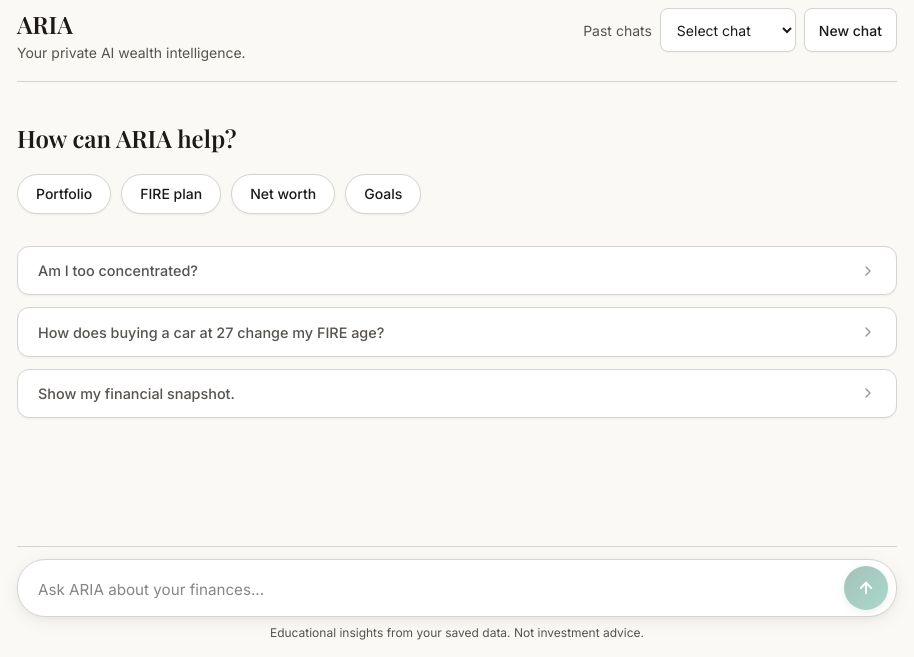
Test case: Advisory interactive chat UI › renders a Markdown table from an assistant response
This screenshot has width=914, height=657.
Expected: the button "New chat" is shown, [804, 8, 897, 52]
Select "Previous Plan" in the dropdown labelled "Past chats" at (728, 30), box [660, 8, 796, 52]
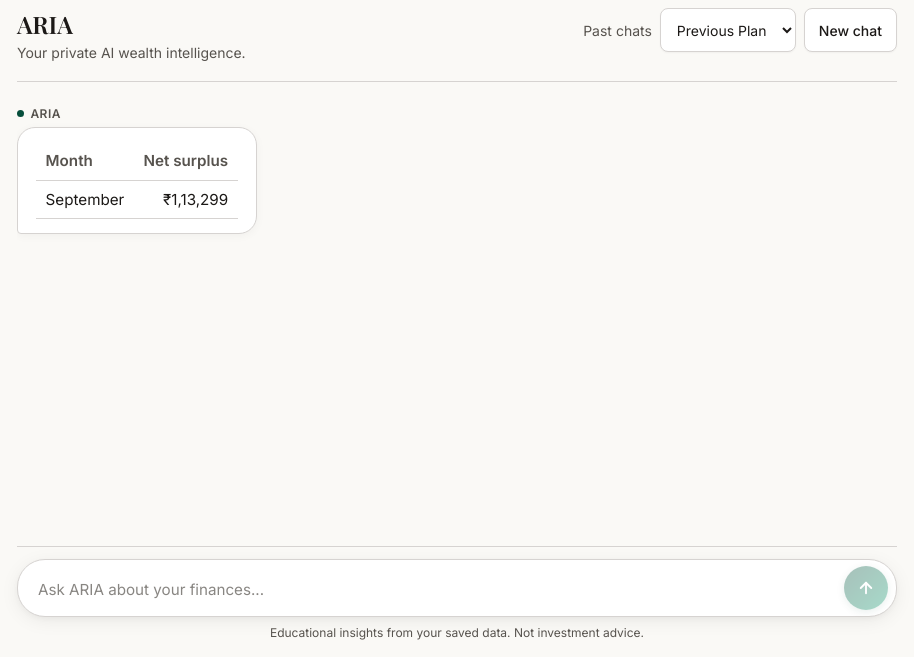
Now the table is shown, box [36, 142, 238, 220]
Now the column heading "Net surplus" is shown, box [134, 142, 238, 180]
